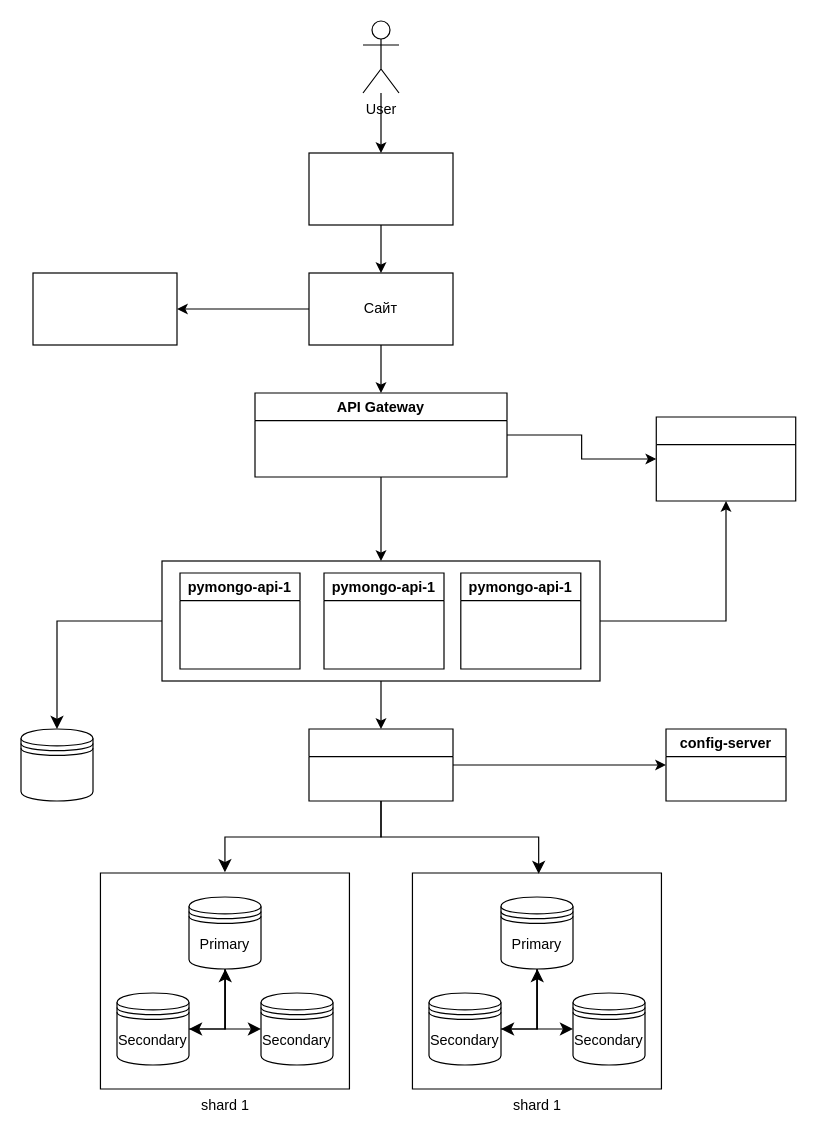
Image size: 817x1135. Some labels were removed from this diagram. Here are the shapes that lost their labels. From the top down, the centre of each, then its label:
At [380,188]: "Web/Mobile".
At [104,308]: "CDN".
At [725,458]: "Consul".
At [56,764]: "Cache".
At [380,764]: "mongo-router".
